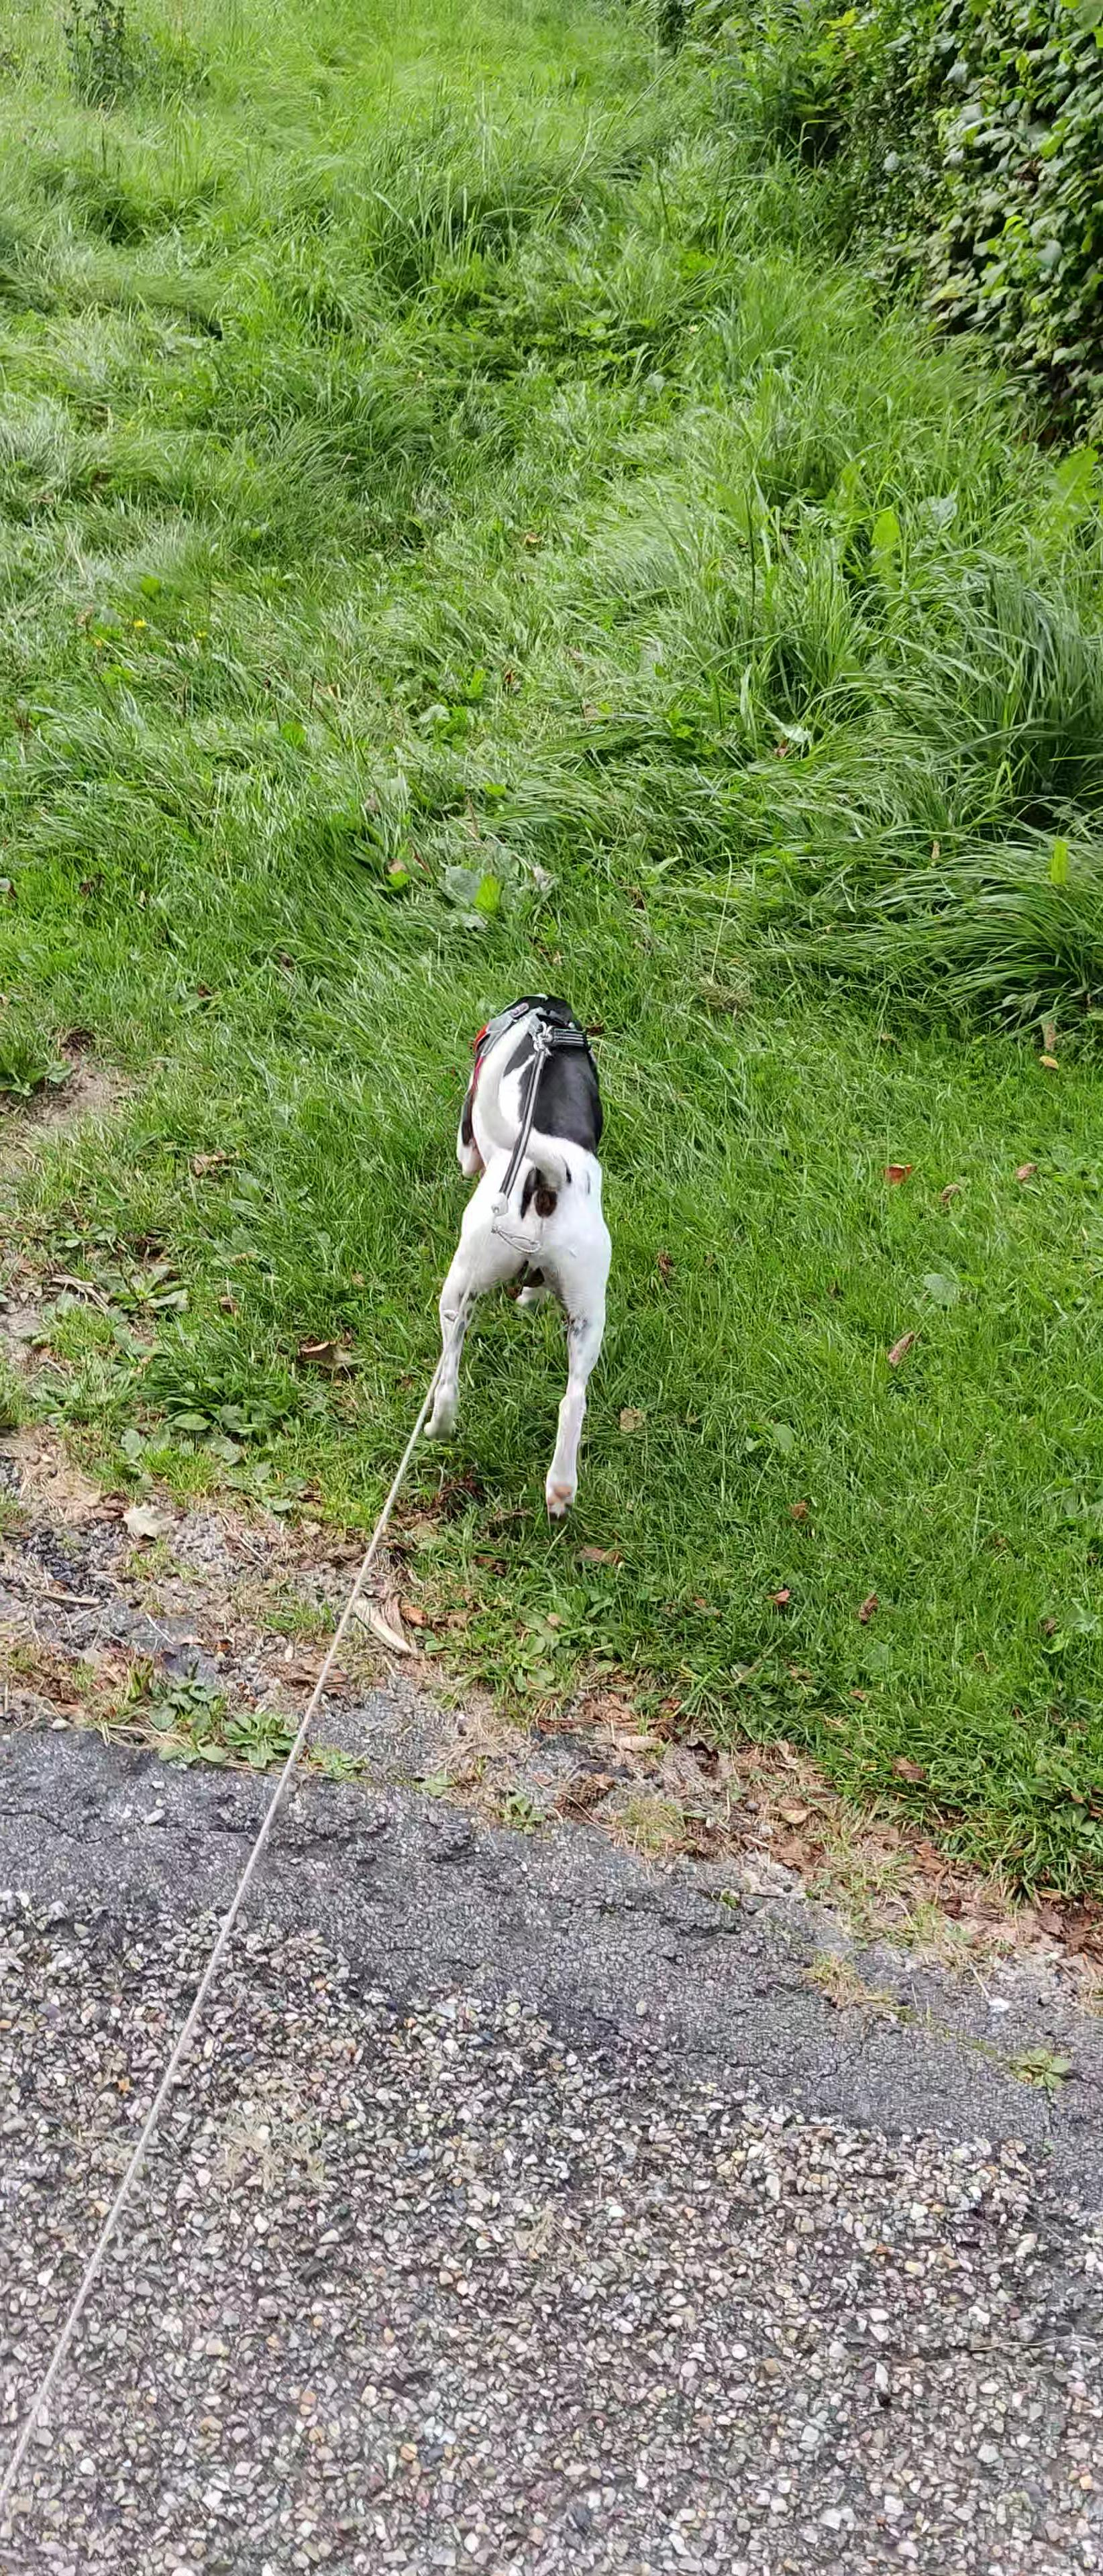Dog: (401, 974, 630, 1534)
